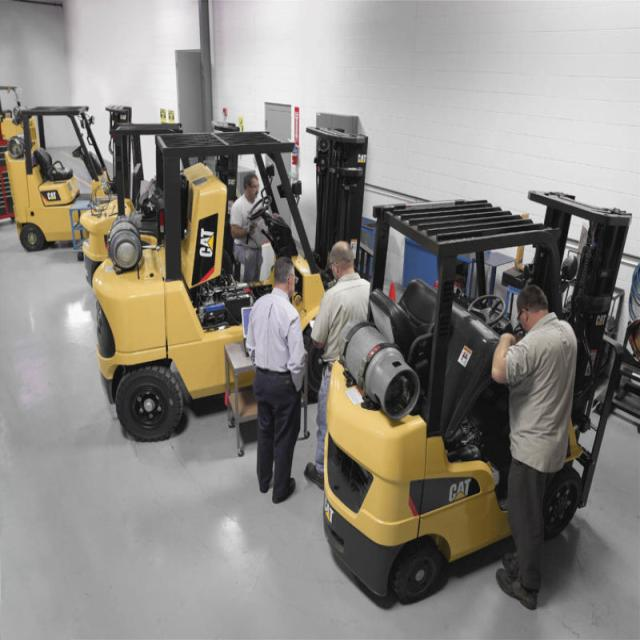Person: (491, 284, 576, 610), (304, 242, 373, 492), (247, 257, 304, 503), (230, 170, 267, 282)
